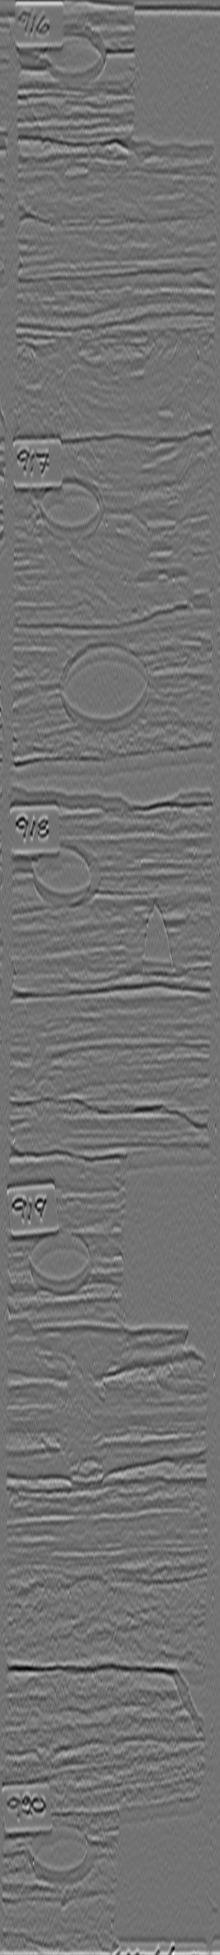hplug: (21, 1818, 107, 1891), (22, 837, 105, 911), (21, 1222, 99, 1295), (35, 473, 111, 544), (41, 22, 117, 92)
scal: (55, 640, 157, 732)
vplug: (112, 1136, 187, 1342), (115, 808, 202, 984), (111, 1794, 206, 1955), (122, 430, 202, 612), (127, 7, 212, 166)
